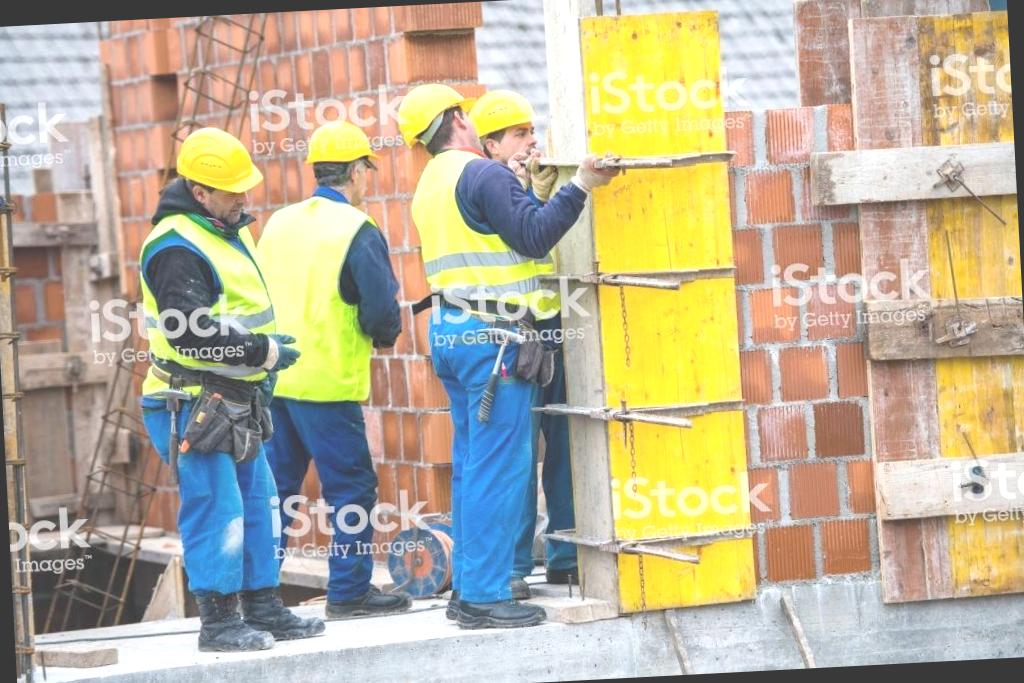helmet: (171, 120, 263, 202), (390, 83, 468, 153), (466, 87, 546, 145), (304, 120, 376, 168)
person: (389, 66, 592, 638), (136, 125, 318, 660), (259, 117, 414, 622)
